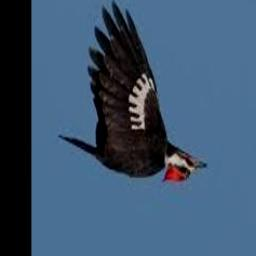Woodpecker: (58, 3, 205, 184)
